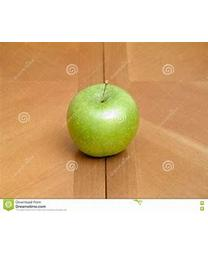apple: (65, 82, 139, 157)
